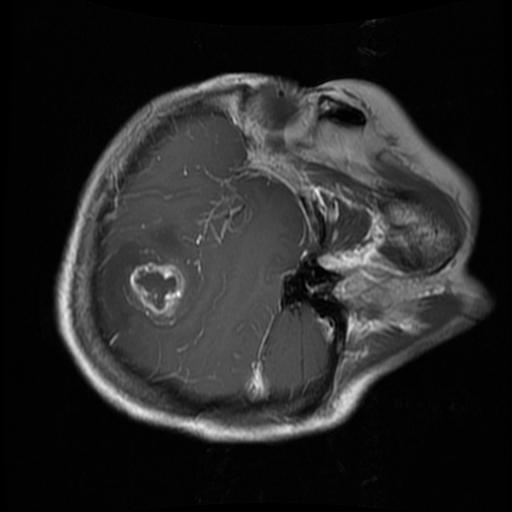glioma: (127, 264, 184, 326)
